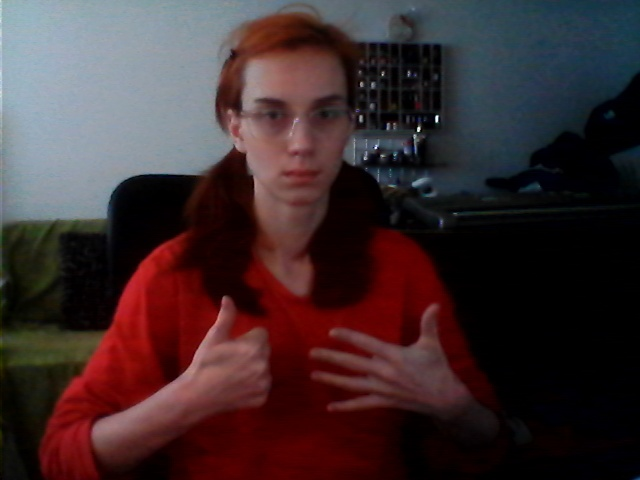sest: (199, 293, 452, 424)
